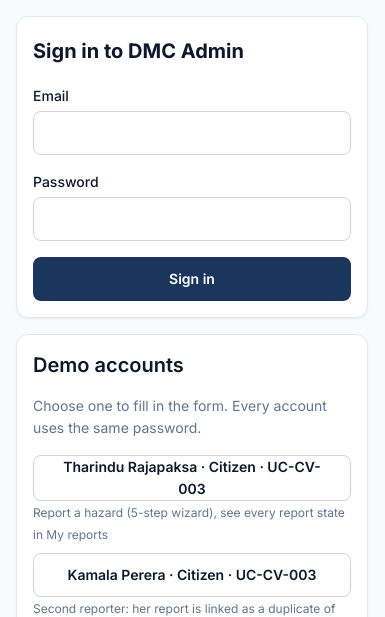
Test: sign-in and sign-out › should show the server message for wrong credentials and stay on the page
Type "a@dms.lk" into the field labelled "Email" at (192, 133), box [33,111,351,155]
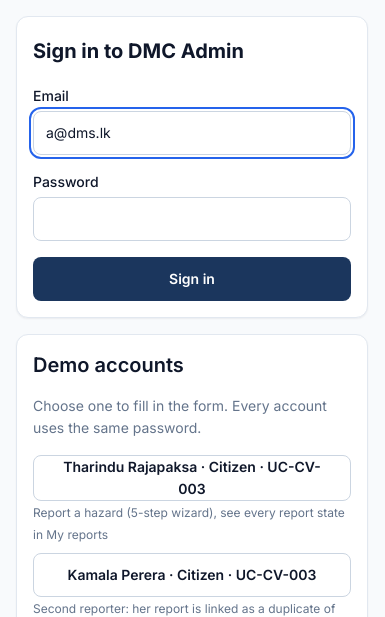
Type "wrong" into the password field labelled "Password" at (192, 219), box [33,197,351,241]
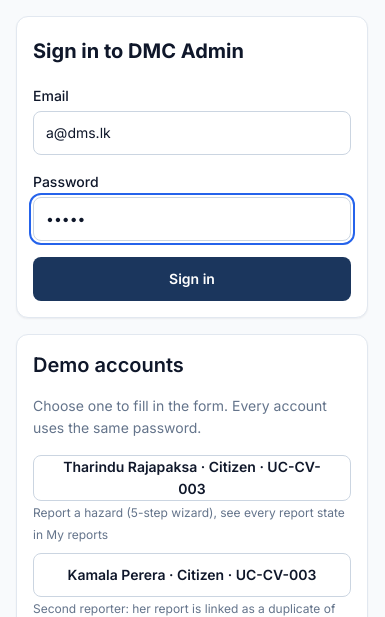
Click the button "Sign in" at (192, 279), box [33,257,351,301]
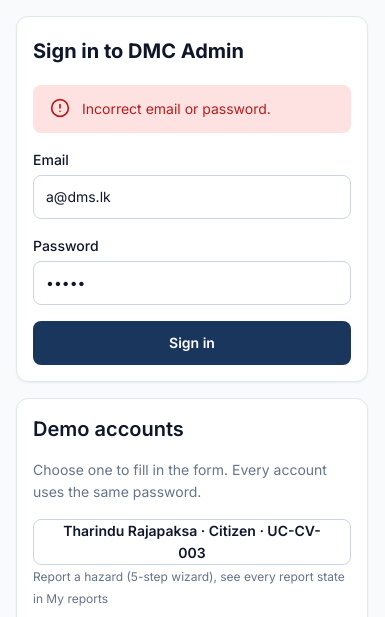
Check: the message reads "Incorrect email or password.", box [82,100,271,117]
